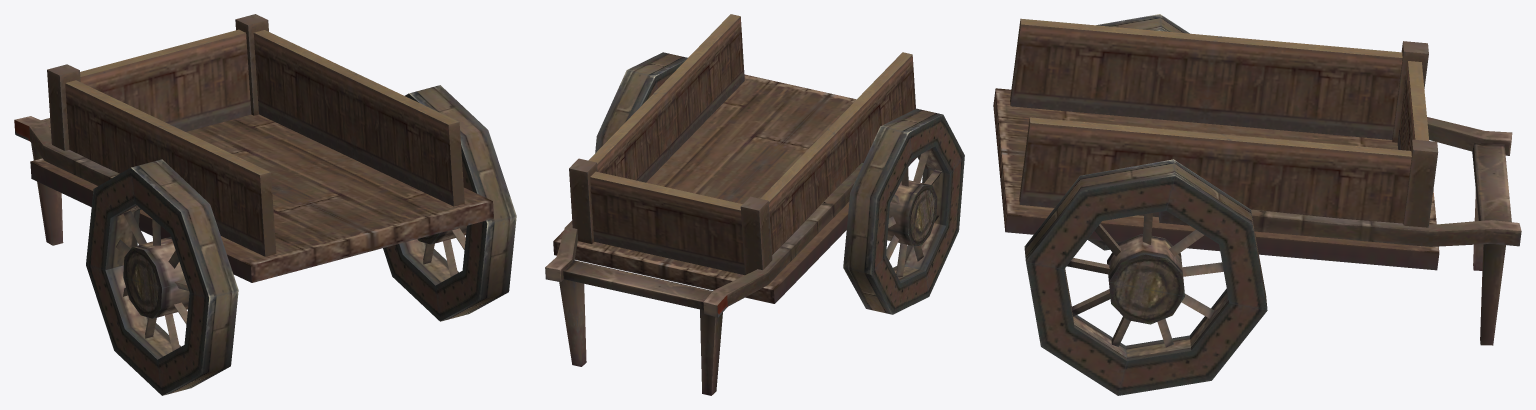
File: cj_luoyang_che01_55_19_5495out.fbx
The picture shows the model from 3 angles, left to right: view 1: azimuth 30°, elevation 25°; view 2: azimuth 150°, elevation 25°; view 3: azimuth 270°, elevation 25°; orthographic projection. The views are drawn at different scales.
Parts seen in each view (by area): view 1: cj_luoyang_che01; view 2: cj_luoyang_che01; view 3: cj_luoyang_che01.
Boxes of the visible parts, x1,y1,x2,y2 form: cj_luoyang_che01: [14, 14, 516, 395]; cj_luoyang_che01: [545, 14, 964, 395]; cj_luoyang_che01: [993, 14, 1521, 395].
Bounding box in the file's own units: 2.42 × 1.66 × 3.22.
